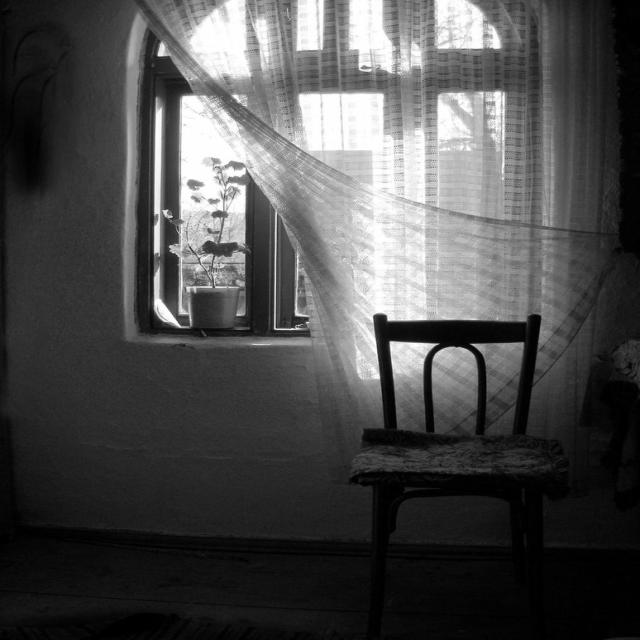chair: (340, 299, 628, 624)
